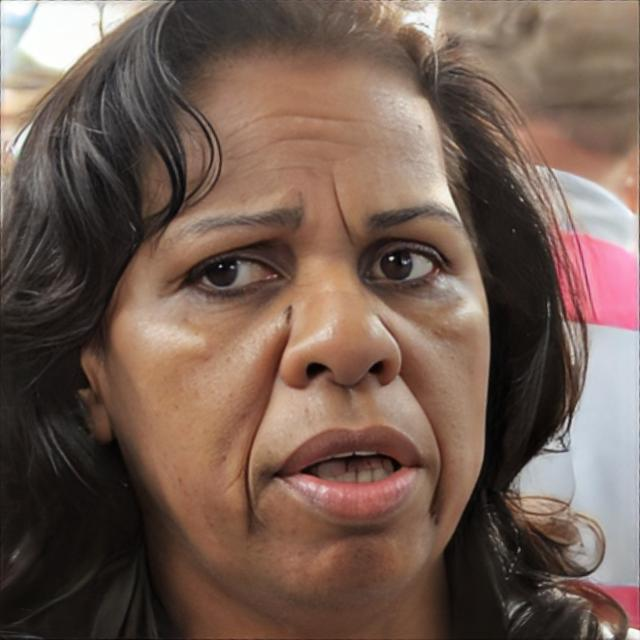sad: (106, 41, 495, 616)
